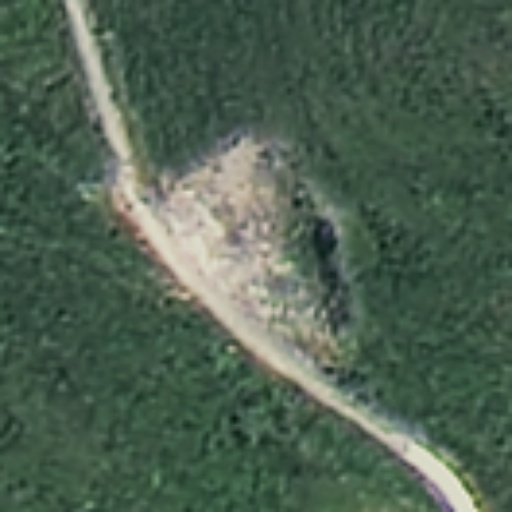landslide: (161, 136, 353, 378)
